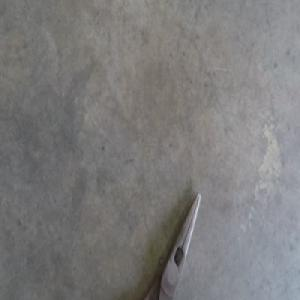Pliers: (145, 191, 201, 298)
